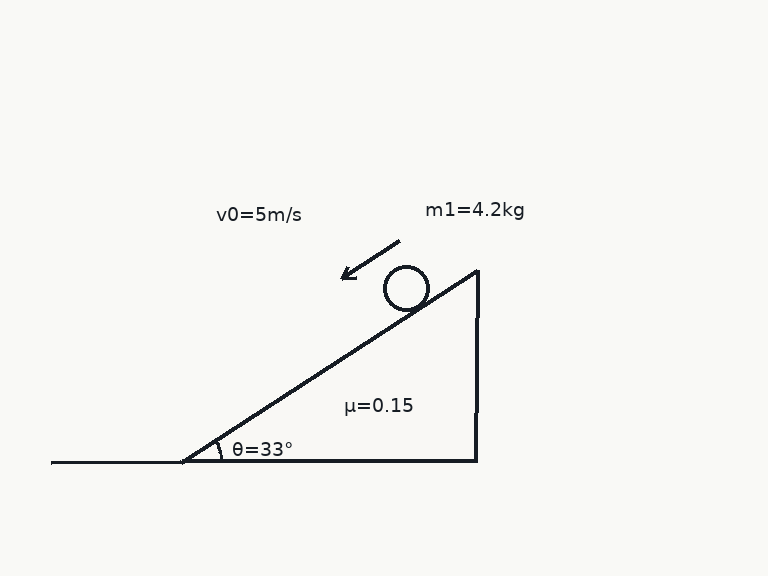ball: (381, 263, 431, 313)
ramp: (179, 267, 478, 463)
